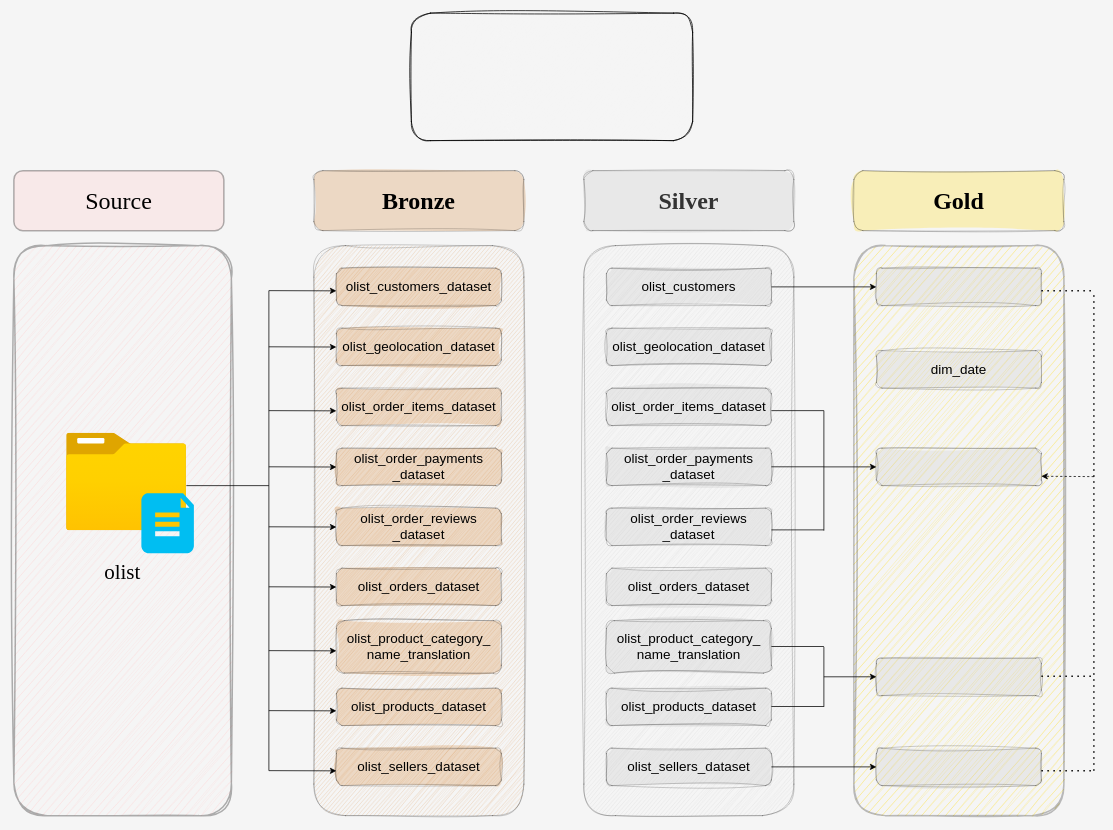
Some shapes in this 1113 by 830 pixel diagram are drawn without their labels. The shapes that lost their labels are listed below. From the top down, each one's centre as x and y in pixels, then its label:
At [552,76]: "Data Flow".
At [958,286]: "dim_customers".
At [958,466]: "fact_sales".
At [958,676]: "dim_products".
At [958,766]: "dim_sellers".
